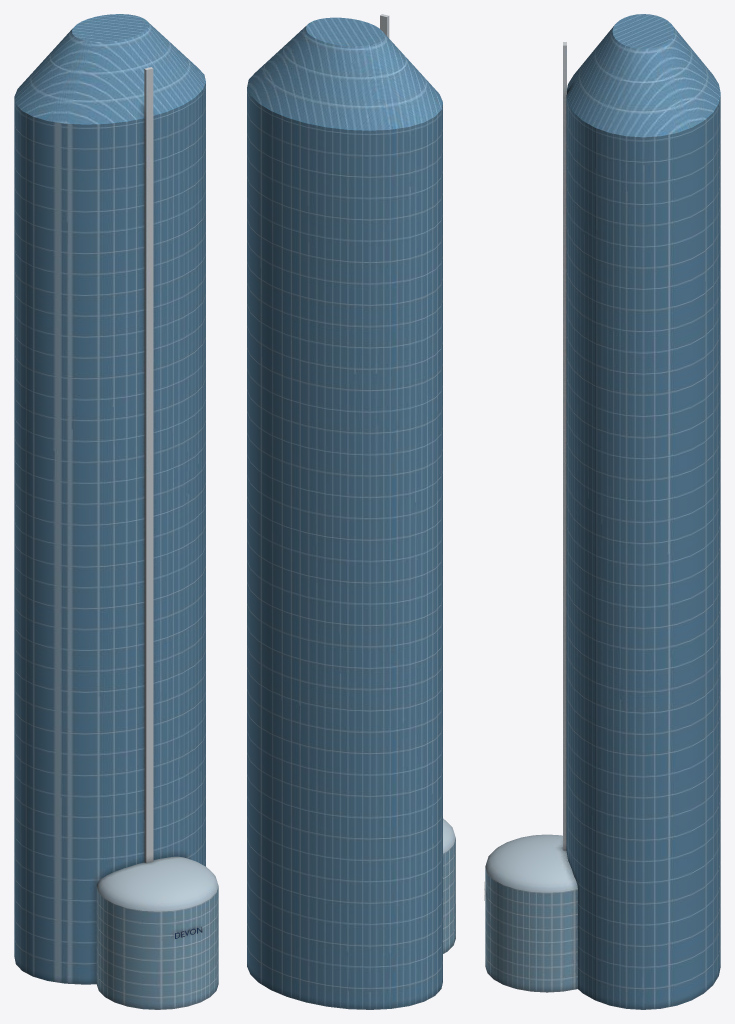
Rendered from devon_tower.glb.
3 views of the same model, side by side, from view 1: azimuth 30°, elevation 25°; view 2: azimuth 150°, elevation 25°; view 3: azimuth 270°, elevation 25° (orthographic). The views are drawn at different scales.
Visible parts, largest first — view 1: devon_tower; view 2: devon_tower; view 3: devon_tower.
Boxes of the visible parts, x1,y1,x2,y2 form: devon_tower: (14, 14, 218, 1009); devon_tower: (247, 14, 455, 1009); devon_tower: (484, 14, 720, 1009).
Bounding box in the file's own units: 30 × 150 × 34.41.
Materials: 1 (1 with a texture image).
